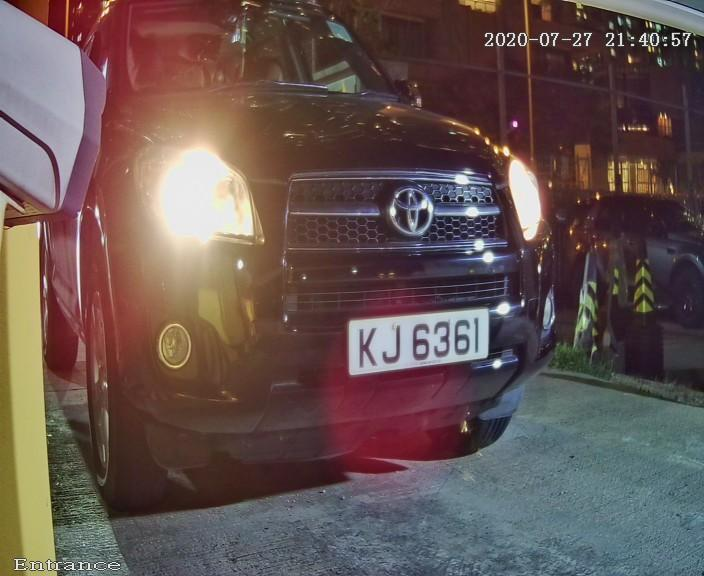privatecar: (51, 3, 595, 507)
